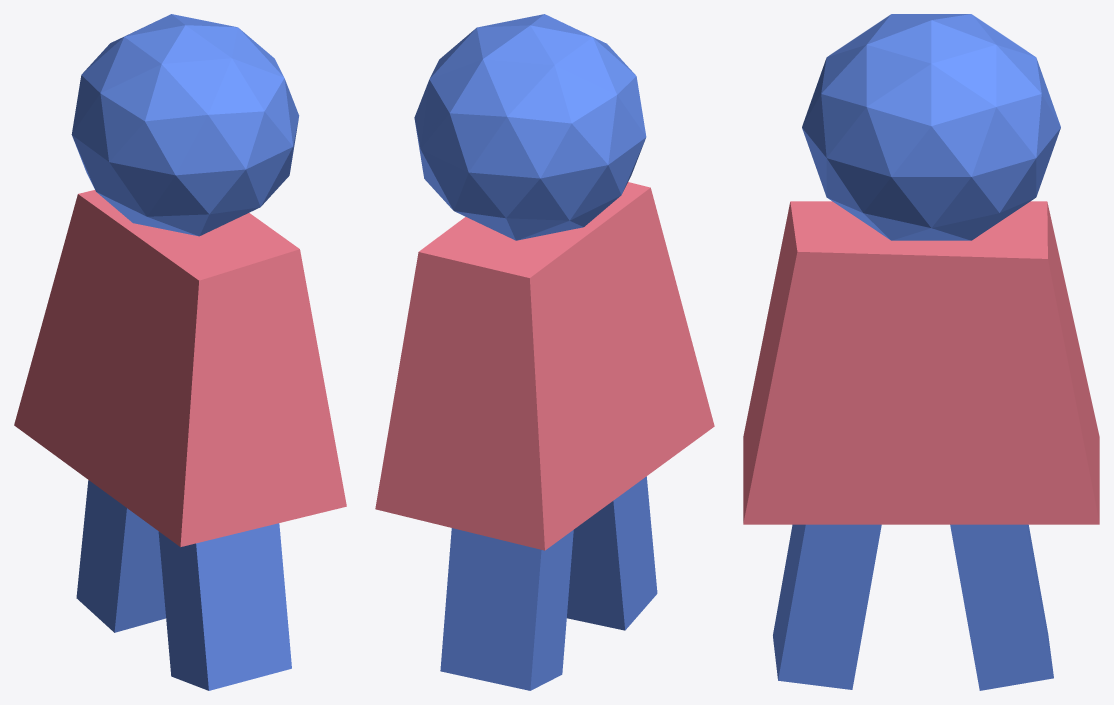
File: playermodel.fbx
The picture shows the model from 3 angles, left to right: view 1: azimuth 30°, elevation 25°; view 2: azimuth 150°, elevation 25°; view 3: azimuth 270°, elevation 25°; orthographic projection. The views are drawn at different scales.
Visible parts, largest first — view 1: Cube.001, Icosphere, Cube.002, Cube.003; view 2: Cube.001, Icosphere, Cube.003, Cube.002; view 3: Cube.001, Icosphere, Cube.002, Cube.003.
Boxes of the visible parts, x1=… form: Cube.001: x1=14, y1=190, x2=346, y2=546; Icosphere: x1=71, y1=14, x2=299, y2=236; Cube.002: x1=158, y1=523, x2=291, y2=690; Cube.003: x1=76, y1=480, x2=165, y2=632; Cube.001: x1=375, y1=182, x2=714, y2=550; Icosphere: x1=414, y1=14, x2=646, y2=240; Cube.003: x1=440, y1=528, x2=573, y2=690; Cube.002: x1=567, y1=476, x2=657, y2=630; Cube.001: x1=743, y1=201, x2=1099, y2=524; Icosphere: x1=802, y1=14, x2=1060, y2=240; Cube.002: x1=773, y1=524, x2=881, y2=689; Cube.003: x1=950, y1=524, x2=1053, y2=690.
Bounding box in the file's own units: 228 × 700 × 346.
